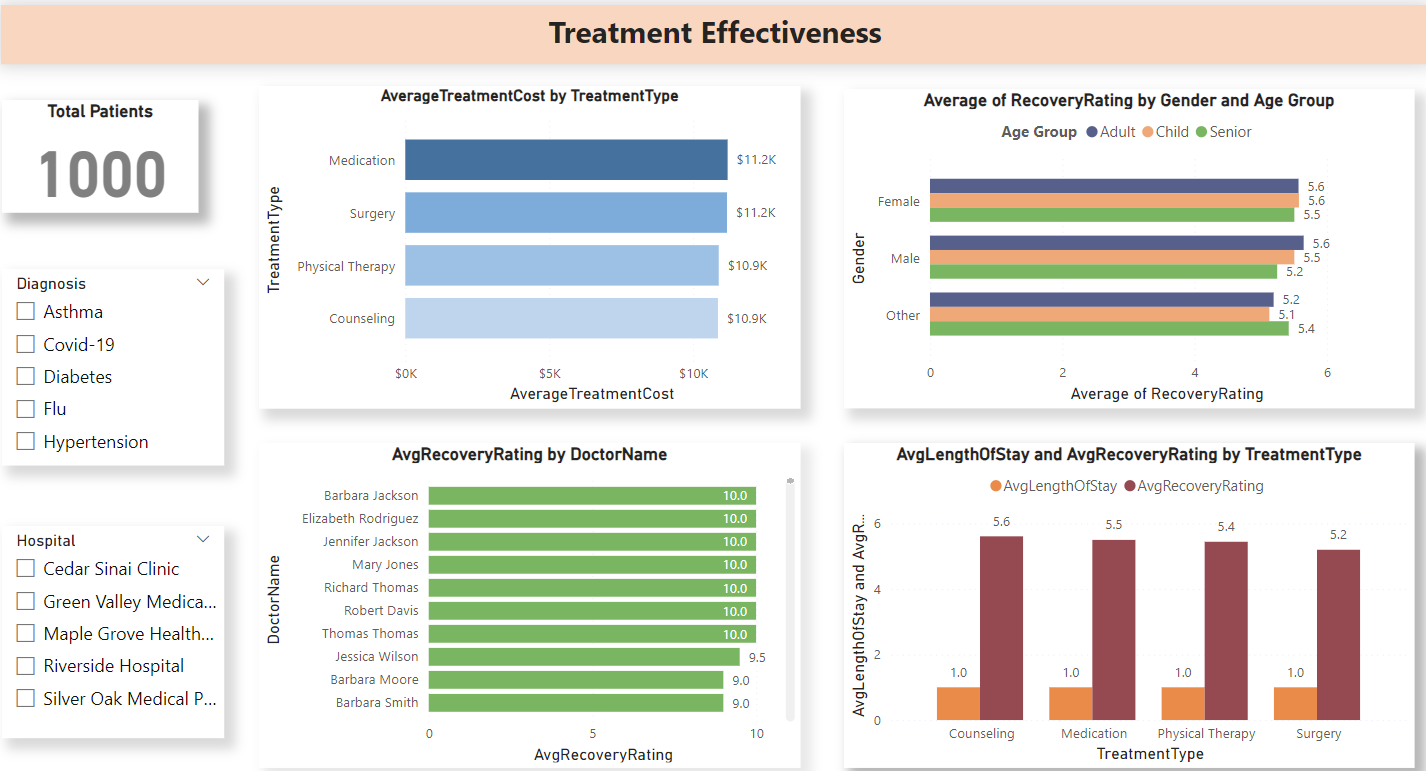

Layout of this report page (visuals, bound fields, positions):
{"tool":"powerbi","page":{"name":"Treatment Effectiveness","canvas":[1280,720],"ordinal":1},"visuals":[{"type":"clusteredBarChart","fields":{"Category":["Sheet1.TreatmentType"],"Y":["Sheet1.AverageTreatmentCost"]},"box":[232.3,93.8,484.8,288.6],"z":0},{"type":"clusteredBarChart","fields":{"Category":["Sheet1.Gender"],"Y":["Sheet1.RecoveryRating"],"Series":["Sheet1.Age Group"]},"box":[756,96.7,510.7,285.7],"z":1000},{"type":"clusteredBarChart","fields":{"Category":["Sheet1.DoctorName"],"Y":["Sheet1.AvgRecoveryRating"]},"box":[232.3,414.1,484.8,291.4],"z":2000},{"type":"clusteredColumnChart","fields":{"Category":["Sheet1.TreatmentType"],"Y":["Sheet1.AvgLengthOfStay","Sheet1.AvgRecoveryRating"]},"box":[756,414.1,510.7,291.4],"z":3000},{"type":"slicer","fields":{"Values":["Sheet1.Hospital"]},"box":[1.4,487.7,199.1,190.4],"z":4000},{"type":"slicer","fields":{"Values":["Sheet1.Diagnosis"]},"box":[1.4,258.3,199.1,176],"z":5000},{"type":"card","title":"Total Patients ","fields":{"Values":["Sheet1.PatientID"]},"box":[1.4,106.8,176,101],"z":6000},{"type":"textbox","box":[0.9,21.5,1278.8,52.8],"z":7000}]}

Visuals, with their boxes on the page's 1280x720 design canvas (x1, y1, x2, y2). These are canvas units, not pixel positions in the 1426x771 screenshot, which may show the page scaled, cropped or inside an application window:
clusteredBarChart - Sheet1.TreatmentType x Sheet1.AverageTreatmentCost: <bbox>232, 94, 717, 382</bbox>
clusteredBarChart - Sheet1.Gender x Sheet1.RecoveryRating: <bbox>756, 97, 1267, 382</bbox>
clusteredBarChart - Sheet1.DoctorName x Sheet1.AvgRecoveryRating: <bbox>232, 414, 717, 706</bbox>
clusteredColumnChart - Sheet1.TreatmentType x Sheet1.AvgLengthOfStay: <bbox>756, 414, 1267, 706</bbox>
slicer - Sheet1.Hospital: <bbox>1, 488, 200, 678</bbox>
slicer - Sheet1.Diagnosis: <bbox>1, 258, 200, 434</bbox>
"Total Patients " card: <bbox>1, 107, 177, 208</bbox>
textbox: <bbox>1, 22, 1280, 74</bbox>
